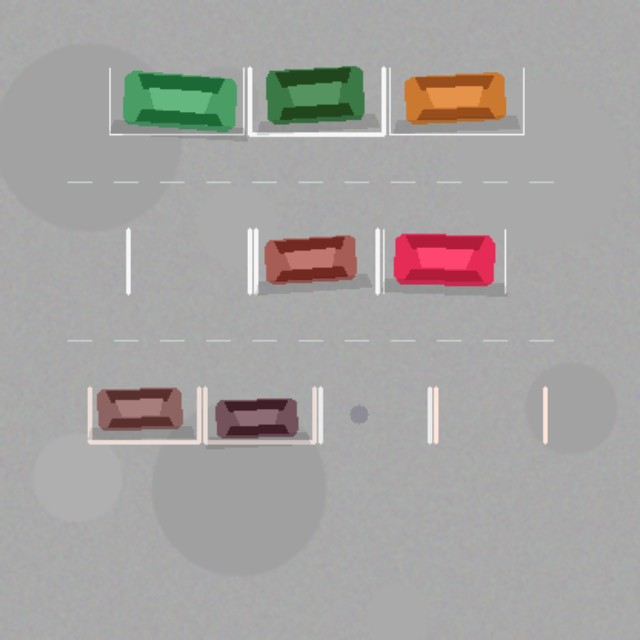space-empty: (128, 229, 249, 292), (435, 388, 545, 442), (320, 388, 429, 442)
space-occupied: (109, 68, 243, 134), (249, 68, 383, 134), (389, 68, 523, 134), (255, 229, 377, 292), (383, 229, 505, 292), (89, 388, 198, 442), (205, 388, 314, 442)
